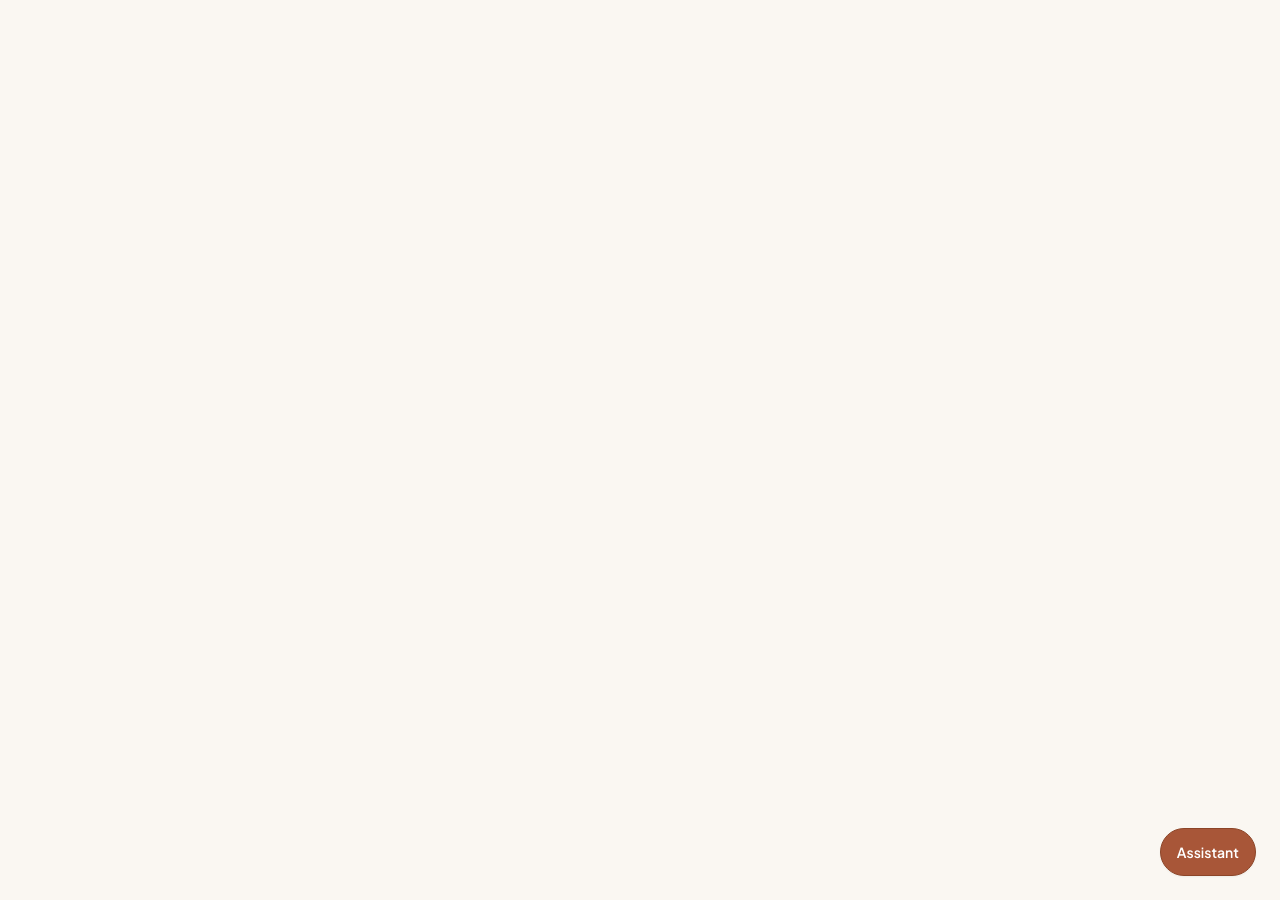
AiAssistant guest access › tells guests the AI chat needs an account
Step 1. Click the button with aria-label "open cooking assistant" → (1208, 852), box [1160,828,1256,876]
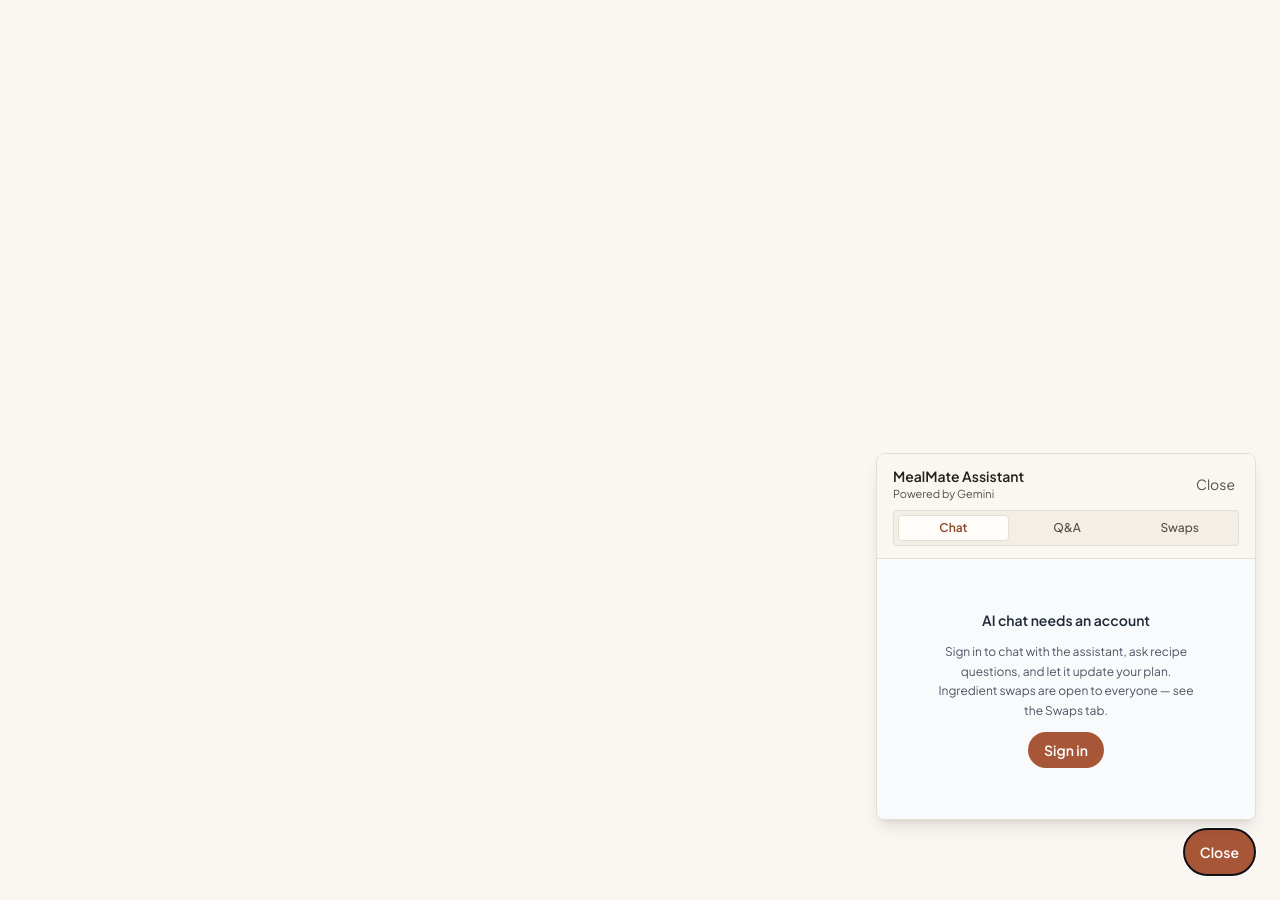
Now the text "AI chat needs an account" is shown, box [982,610,1150,630]
Now the button "Sign in" is shown, box [1028,732,1104,768]
